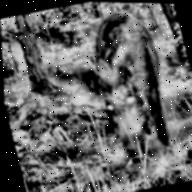boar: (62, 1, 187, 167)
